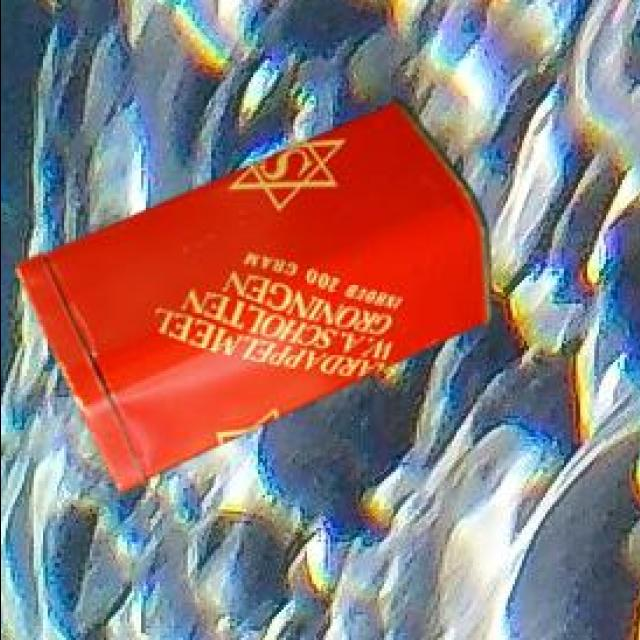logam: (13, 102, 487, 496)
